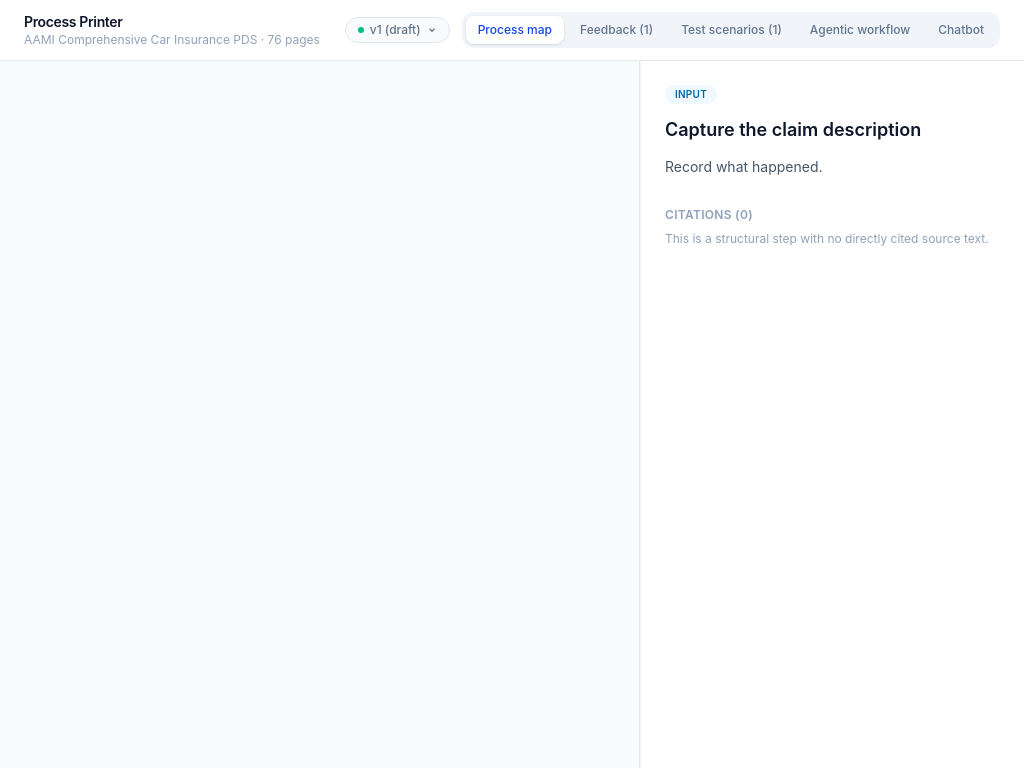
Scenario: App › switching to the workflow tab shows the agentic workflow when one exists
Click the button with test id "tab-workflow": point(860, 30) left=798, top=16, right=922, bottom=44
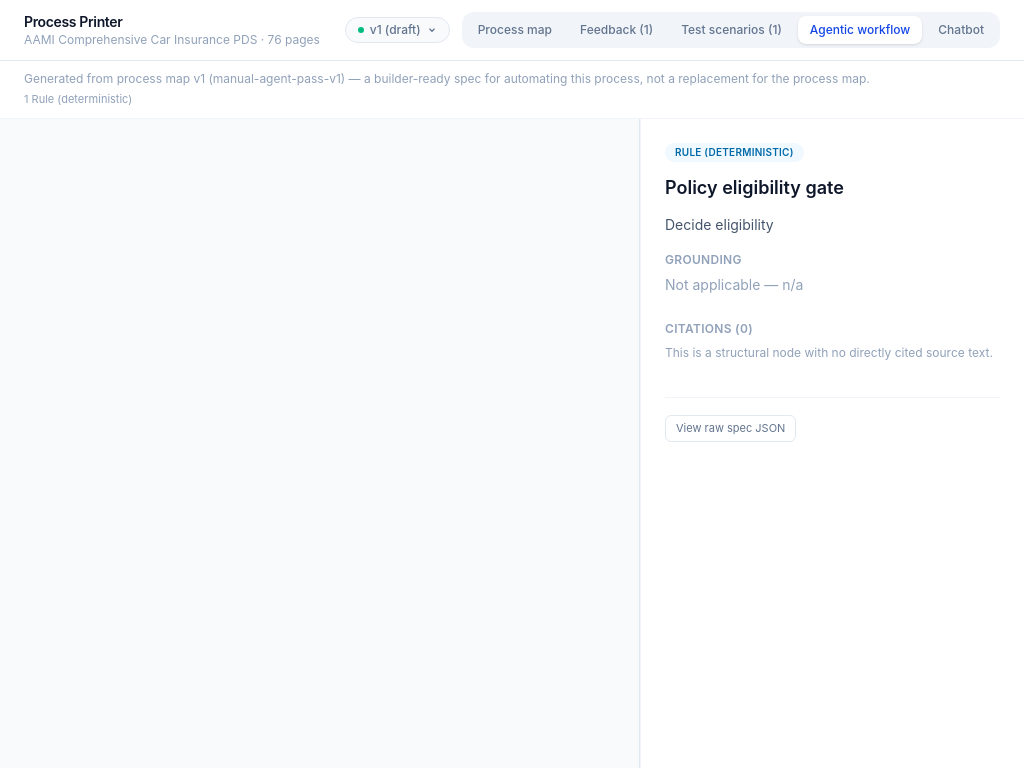
Now the element with test id "agentic-workflow-panel" is shown
Now the heading "Policy eligibility gate" is shown, box left=665, top=176, right=844, bottom=198
